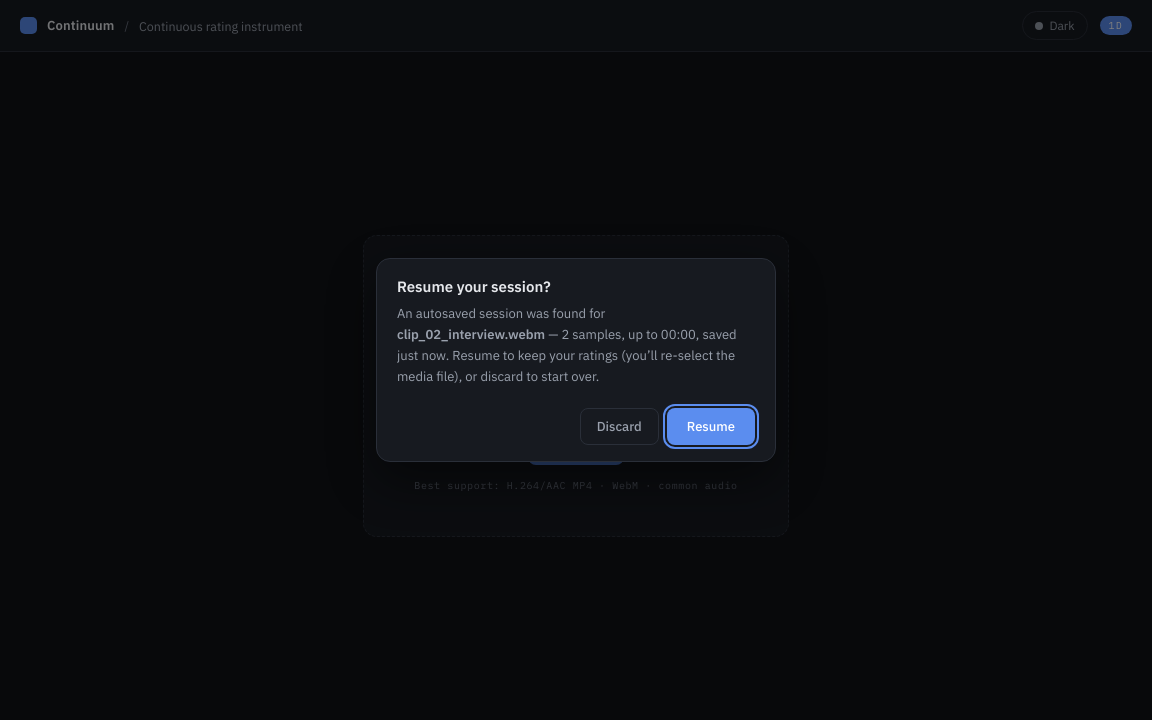
Test case: <App /> shell › offers to resume an autosaved session and shows the re-select notice
The image size is (1152, 720).
Expected: the text "clip_02_interview.webm" is shown, [397, 326, 545, 343]
Note: Resuming asks the participant to re-select the file, noting samples restored.
Click the button "Resume".
click(711, 426)  # box [667, 408, 755, 445]
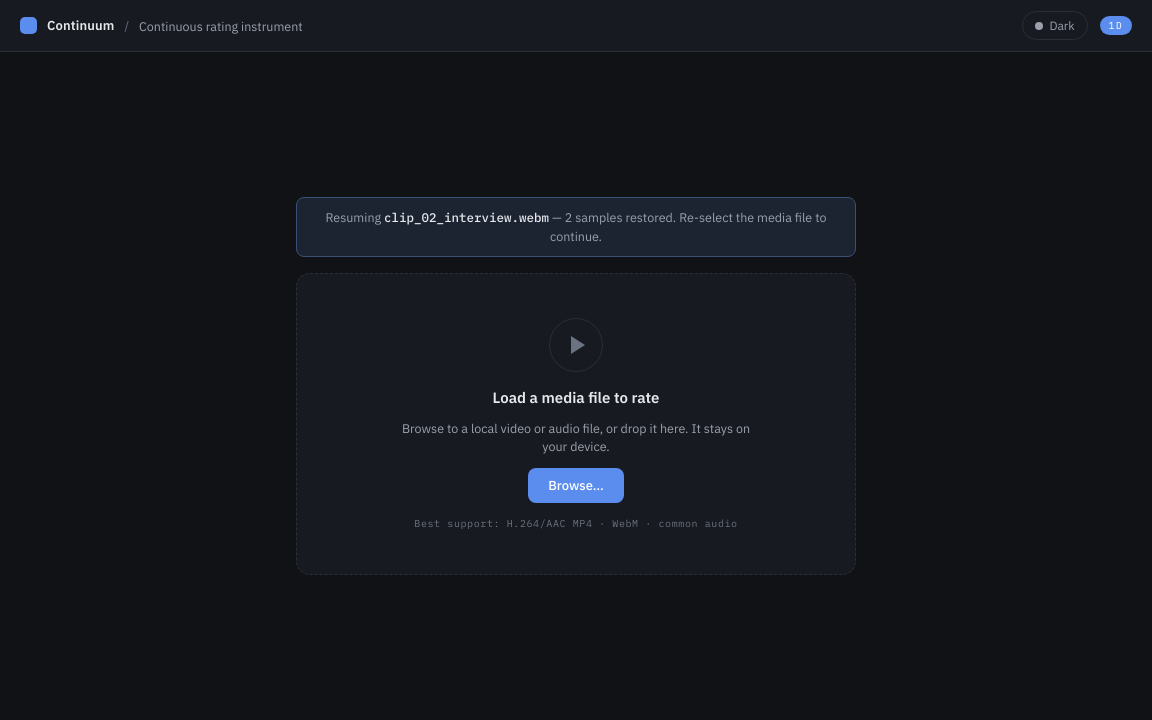
Expected: the text "Load a media file to rate" is shown, [493, 388, 660, 406]
Expected: the dialog is gone
Expected: the text "2 samples restored" is shown, [296, 197, 856, 256]
